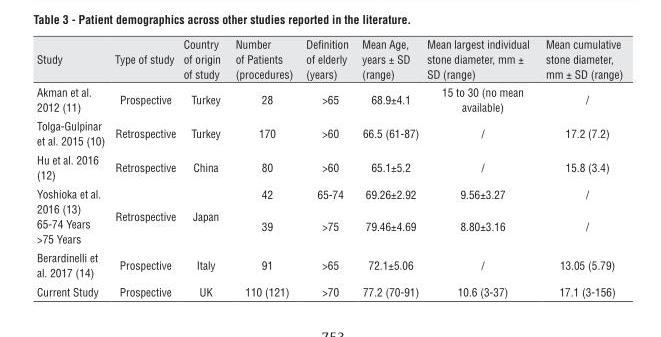table: (36, 36, 622, 298)
table column: (422, 36, 536, 298), (536, 36, 622, 298), (36, 36, 109, 298), (227, 36, 298, 298), (109, 36, 178, 298), (354, 36, 422, 298), (298, 36, 354, 298), (178, 36, 227, 298)
table column header: (36, 36, 622, 82)
table row: (36, 36, 622, 82), (36, 209, 622, 247), (36, 115, 622, 149), (36, 149, 622, 183), (36, 247, 622, 281), (36, 82, 622, 115), (36, 183, 622, 209), (36, 281, 622, 298)
table spanning cell: (36, 183, 109, 247), (109, 183, 178, 247), (178, 183, 227, 247)
